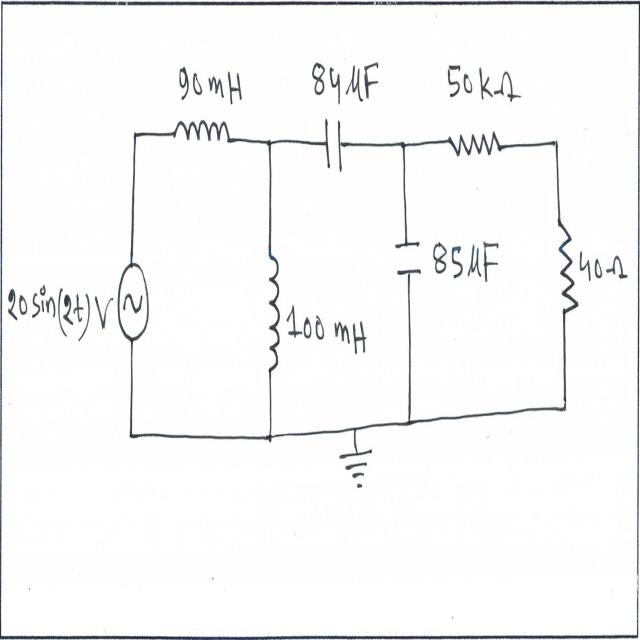ac_current: (116, 255, 151, 349)
capacitor: (391, 237, 424, 290), (322, 116, 348, 179)
ground: (334, 446, 378, 498)
inductor: (262, 237, 284, 386), (170, 112, 233, 154)
resistor: (553, 210, 580, 322), (442, 120, 509, 164)
